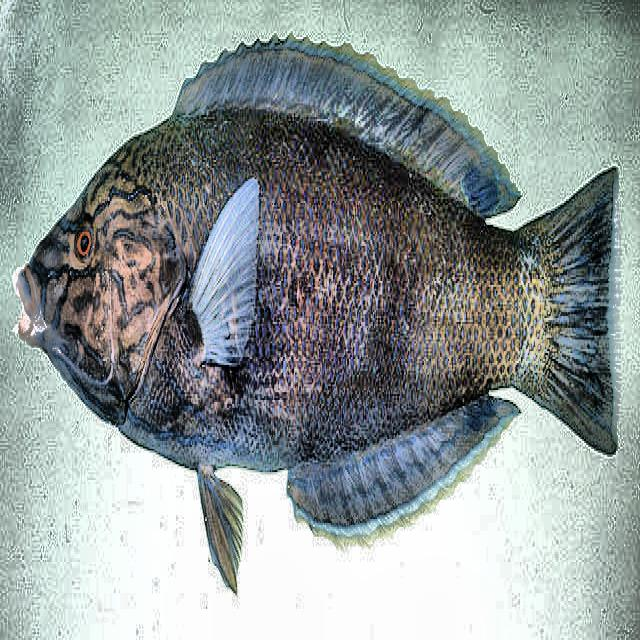fish: (7, 32, 619, 597)
